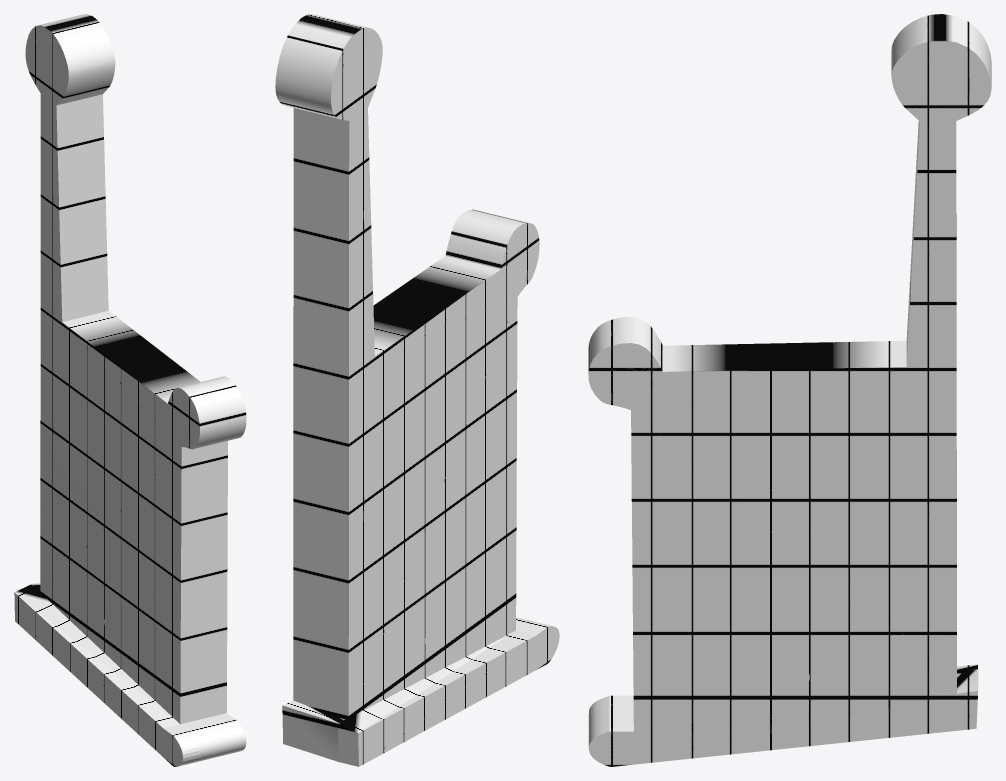
File: PewSide.FBX
The picture shows the model from 3 angles, left to right: view 1: azimuth 30°, elevation 25°; view 2: azimuth 150°, elevation 25°; view 3: azimuth 270°, elevation 25°; orthographic projection. The views are drawn at different scales.
Parts seen in each view (by area): view 1: PewSide; view 2: PewSide; view 3: PewSide.
Boxes of the visible parts, bbox=[...] form: PewSide: bbox=[14, 14, 246, 766]; PewSide: bbox=[275, 14, 559, 766]; PewSide: bbox=[588, 14, 991, 766].
Size of the model in its own units: 5.02 by 47.59 by 23.93.
1 material, 1 textured.
